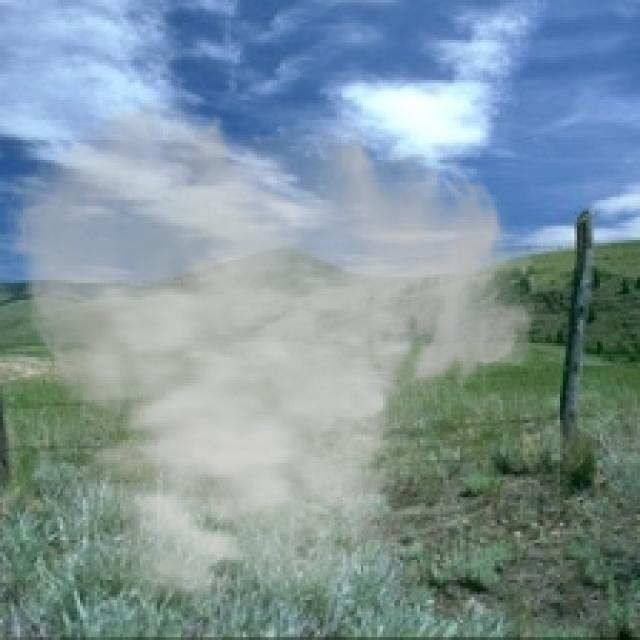smoke: (0, 97, 543, 634)
